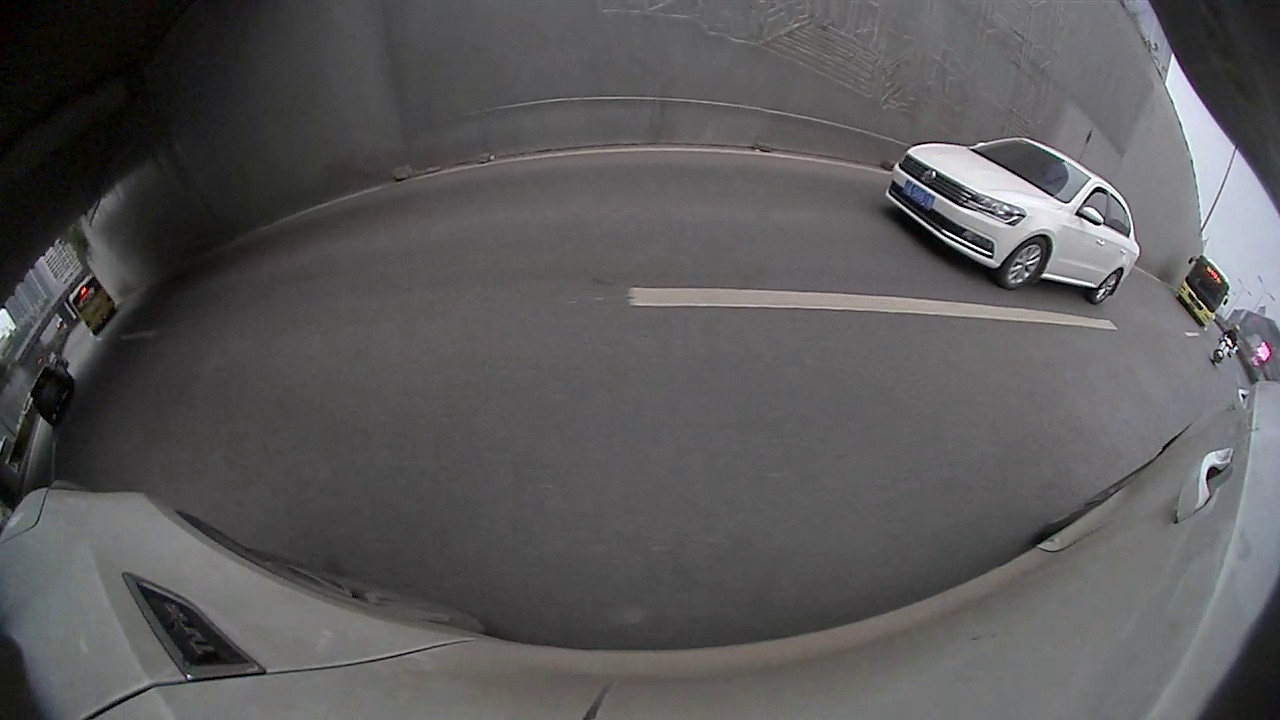bus: (1111, 193, 1277, 316)
car: (238, 127, 503, 288), (1086, 271, 1277, 440), (530, 155, 593, 198)
front: (1122, 326, 1213, 431), (473, 186, 497, 230)
rear: (364, 206, 419, 276)
rider: (1015, 205, 1076, 269)
truck: (580, 3, 913, 227)
